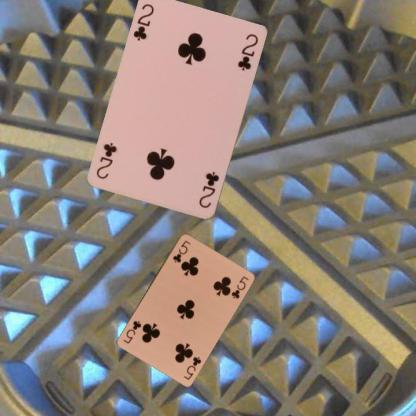2c: (130, 1, 156, 43), (196, 169, 221, 210)
5c: (181, 353, 202, 380), (170, 238, 191, 264)
